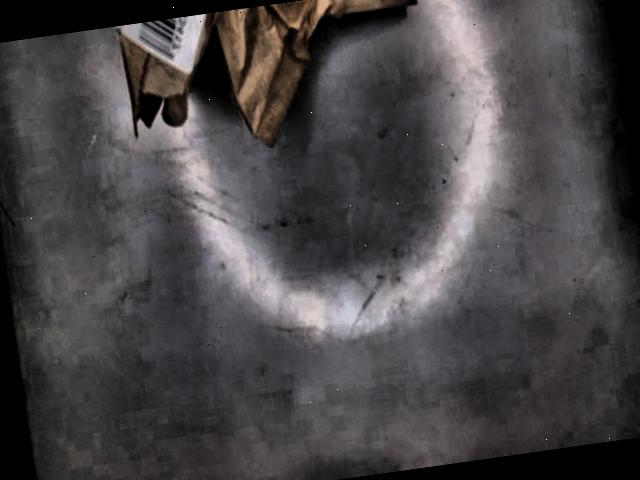Paper: (111, 0, 420, 150)
